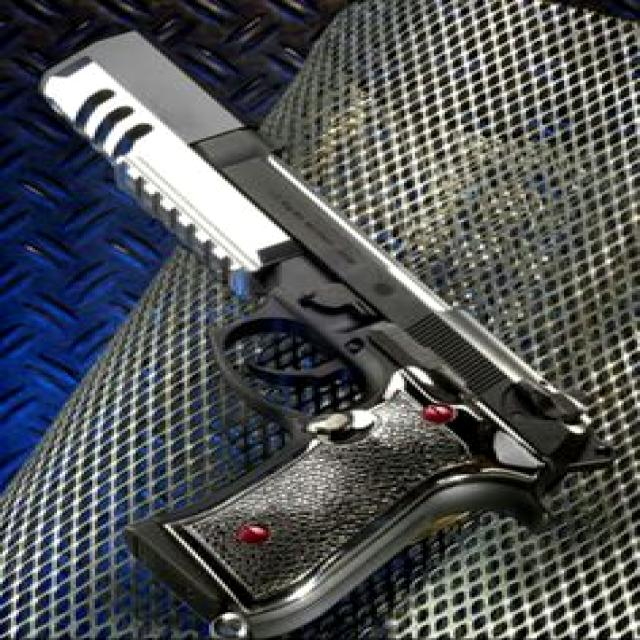semi automatic: (17, 20, 629, 640)
